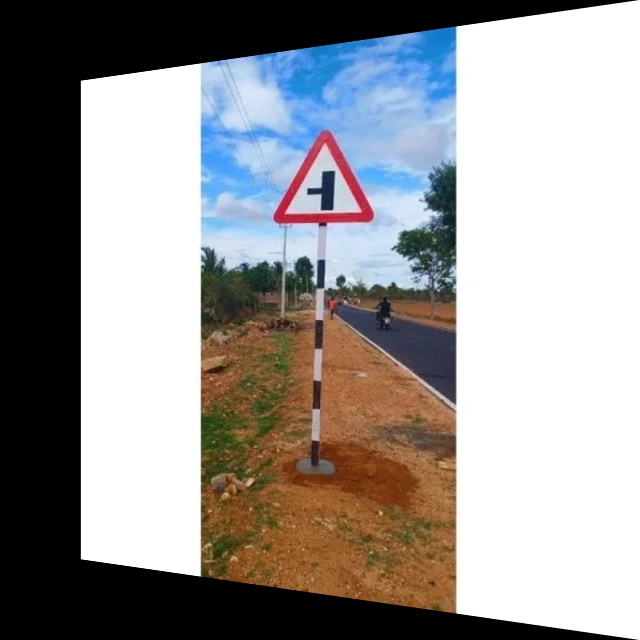Side_Road_Left: (270, 121, 377, 229)
